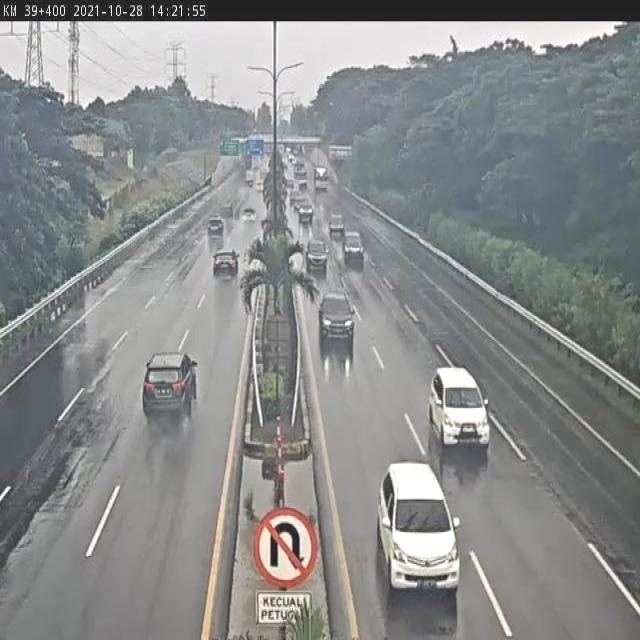Bus: (312, 166, 330, 193)
Car: (377, 458, 463, 603), (427, 371, 492, 457), (141, 352, 200, 428), (317, 295, 358, 355), (210, 249, 240, 280), (306, 238, 329, 277), (342, 230, 366, 265), (297, 201, 314, 227), (206, 216, 224, 239), (329, 213, 346, 237), (242, 206, 258, 222)
